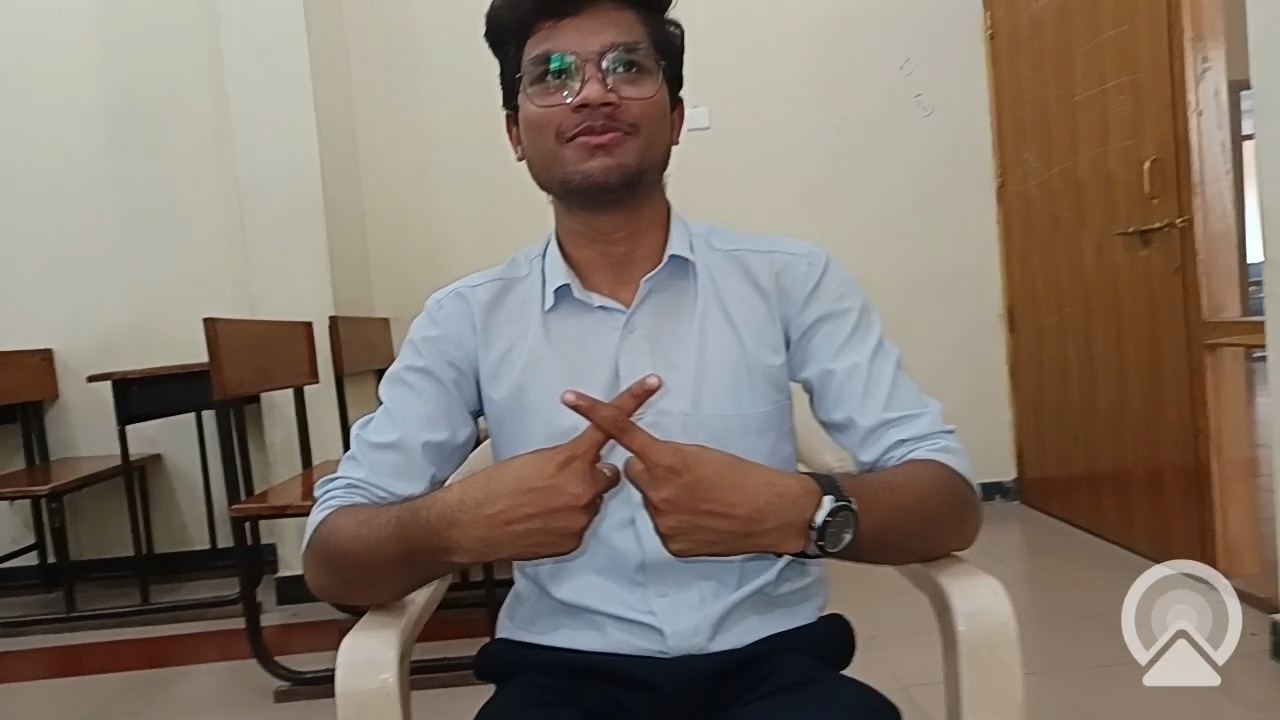X: (413, 359, 832, 616)
